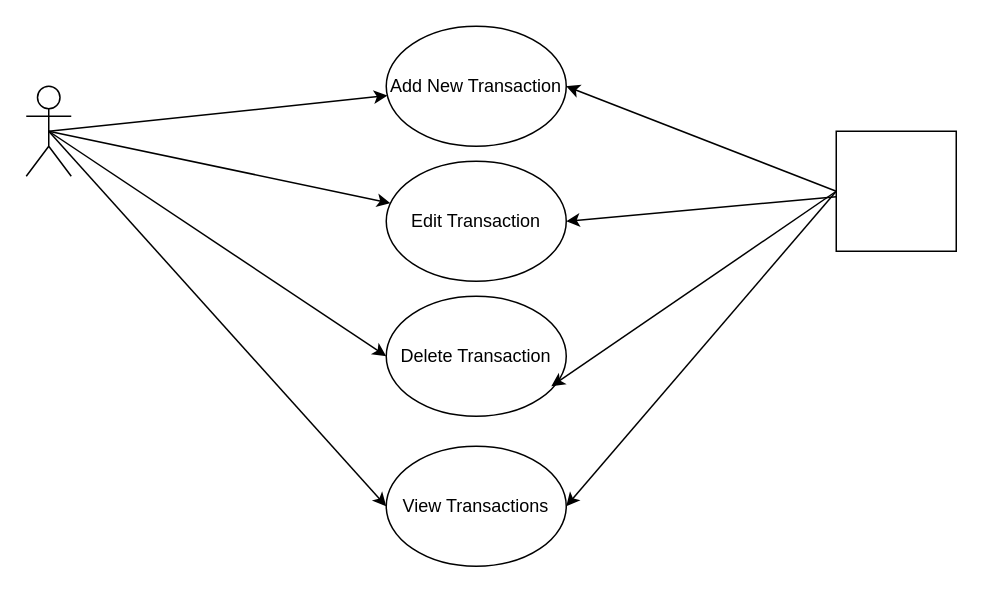
Some shapes in this 983 by 593 pixel diagram are drawn without their labels. Each missing label, with the centre of its shape:
"Actor" belongs at pixel 48 130.
"Spend Tracker App" belongs at pixel 895 190.
